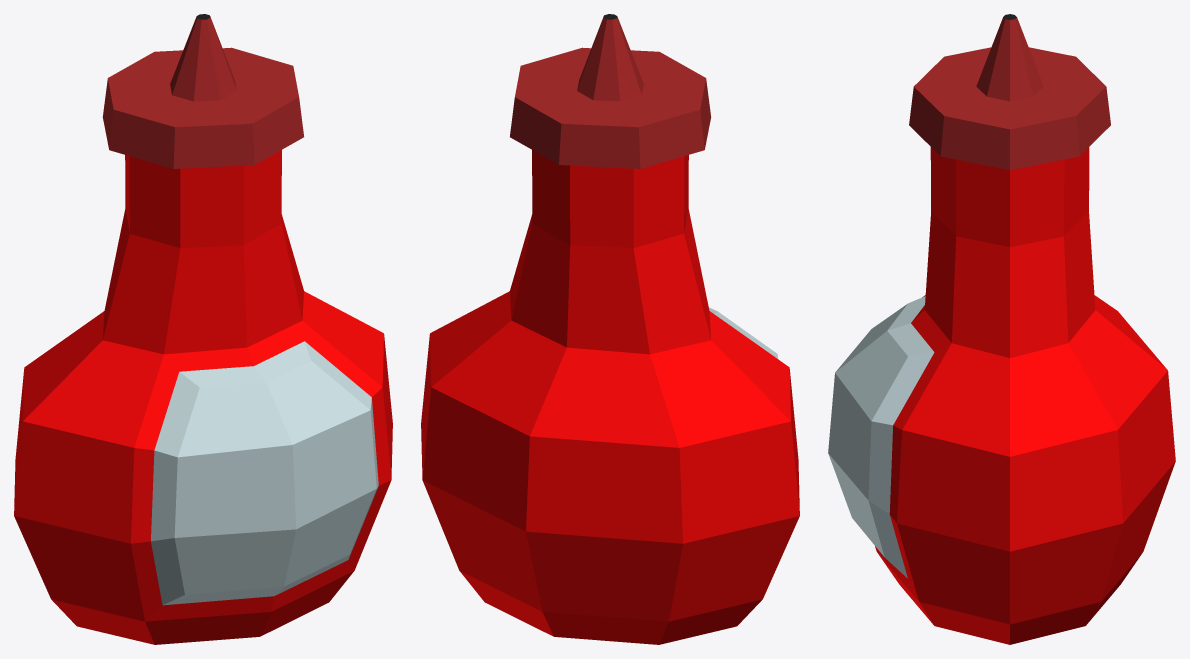
File: Ketchup.fbx
The picture shows the model from 3 angles, left to right: view 1: azimuth 30°, elevation 25°; view 2: azimuth 150°, elevation 25°; view 3: azimuth 270°, elevation 25°; orthographic projection.
Visible parts, largest first — view 1: Ketchup; view 2: Ketchup; view 3: Ketchup.
Part boxes in pixels (x1,y1,x2,y2): Ketchup: (14,14,392,644); Ketchup: (421,14,799,644); Ketchup: (828,14,1175,644).
Size of the model in its own units: 11.54 by 16.84 by 9.35.
